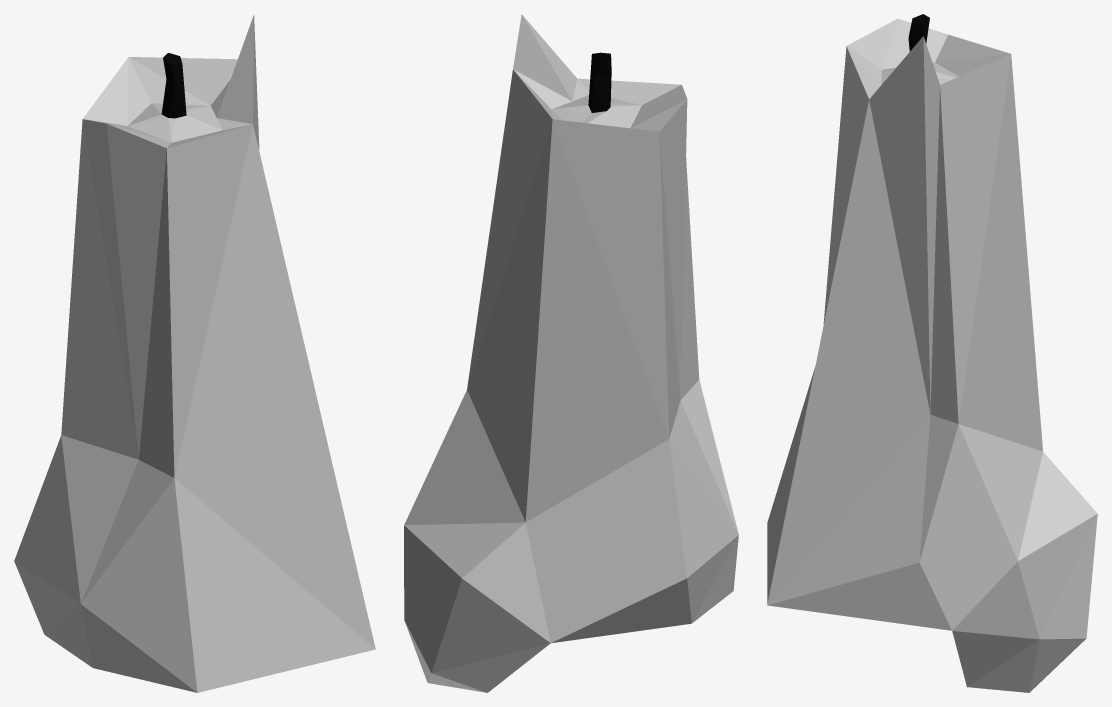
Rendered from Candle_02.fbx.
The picture shows the model from 3 angles, left to right: view 1: azimuth 30°, elevation 25°; view 2: azimuth 150°, elevation 25°; view 3: azimuth 270°, elevation 25°; orthographic projection. The views are drawn at different scales.
Parts seen in each view (by area): view 1: Candle_02; view 2: Candle_02; view 3: Candle_02.
Boxes of the visible parts, box(x1,y1,x2,y2) form: Candle_02: box(14, 15, 375, 692); Candle_02: box(404, 14, 738, 692); Candle_02: box(767, 14, 1097, 692).
Bounding box in the file's own units: 28.29 × 60.9 × 28.47.
